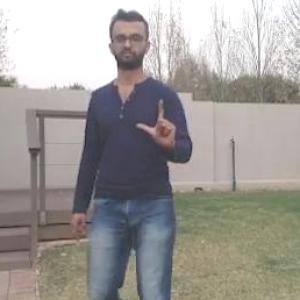land_hand: (132, 92, 182, 148)
